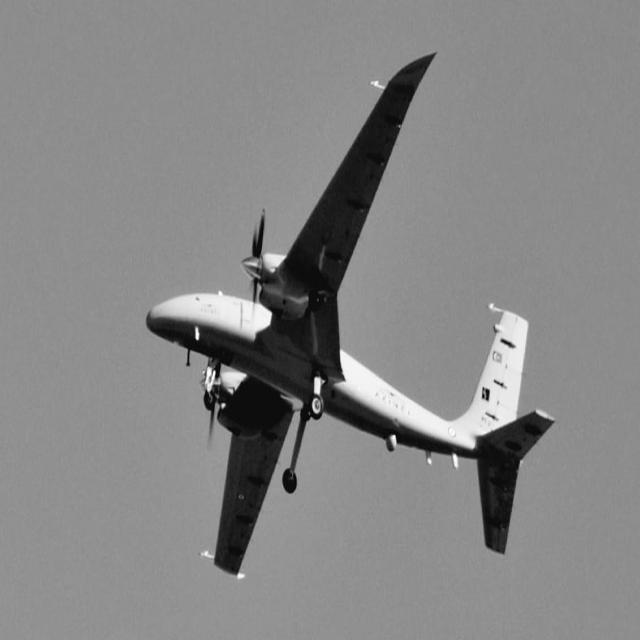iha: (146, 2, 554, 578)
